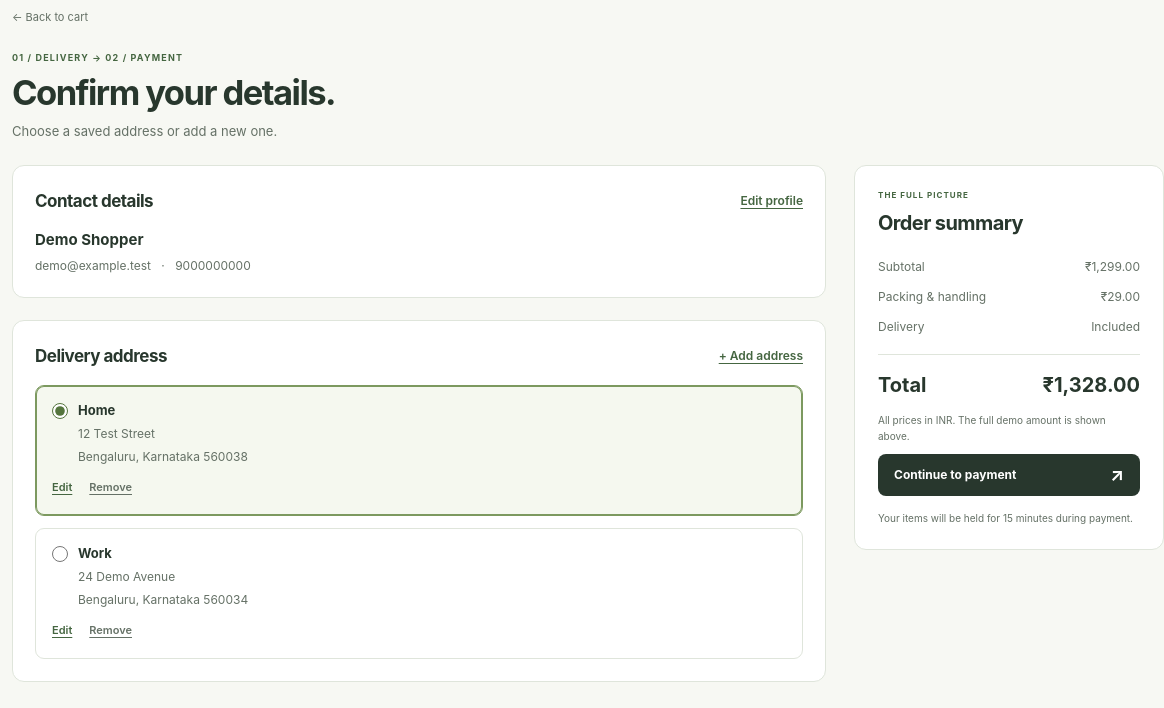
Test: saved-profile checkout › requires saving or cancelling address edits before continuing
expect the text "Demo Shopper" is shown: met, box top-left (35, 230), bottom-right (144, 249)
Click the button "+ Add address": (761, 356) top-left (719, 343), bottom-right (803, 368)
(page scrolled)
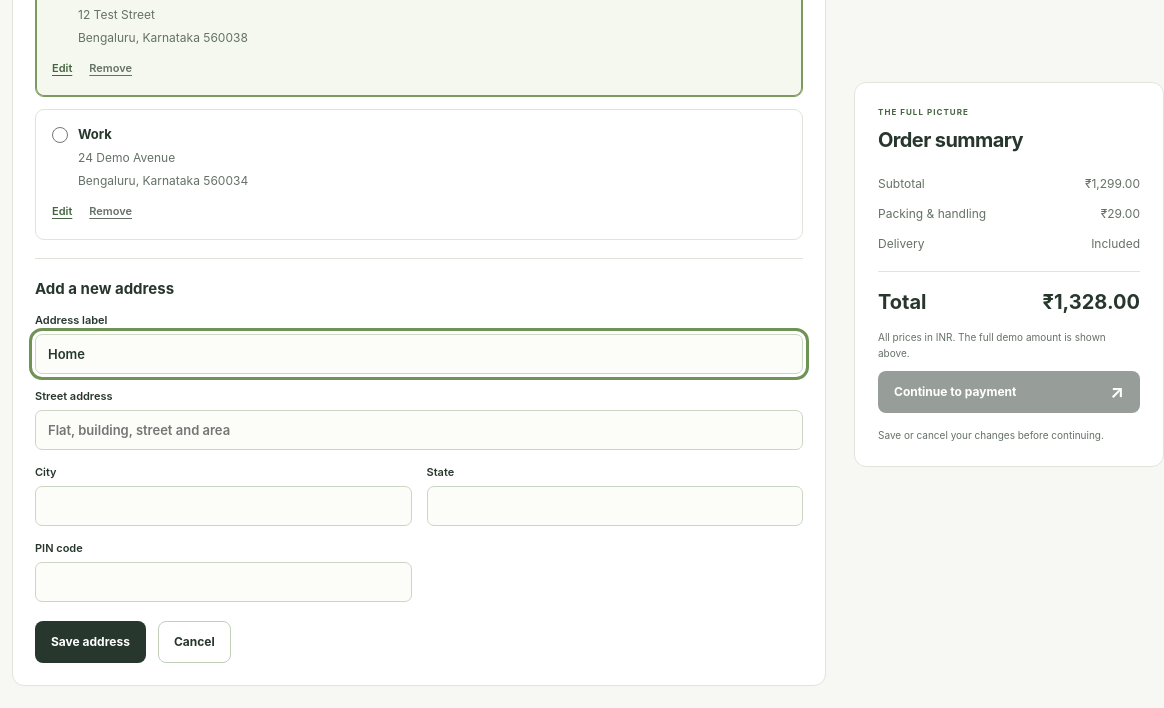
expect the button "Continue to payment ↗" is disabled: met, box top-left (878, 371), bottom-right (1140, 413)
Click the button "Cancel": (194, 642) top-left (158, 621), bottom-right (231, 663)
(page scrolled)
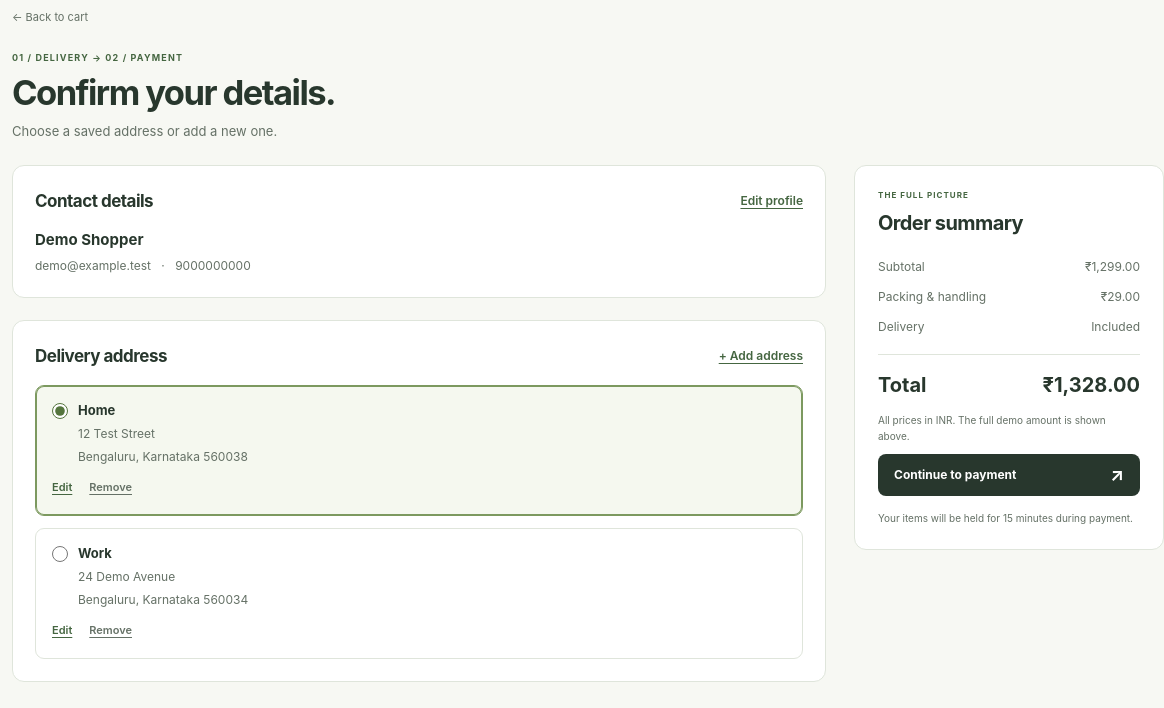
expect the button "Continue to payment ↗" is enabled: met, box top-left (878, 454), bottom-right (1140, 496)
